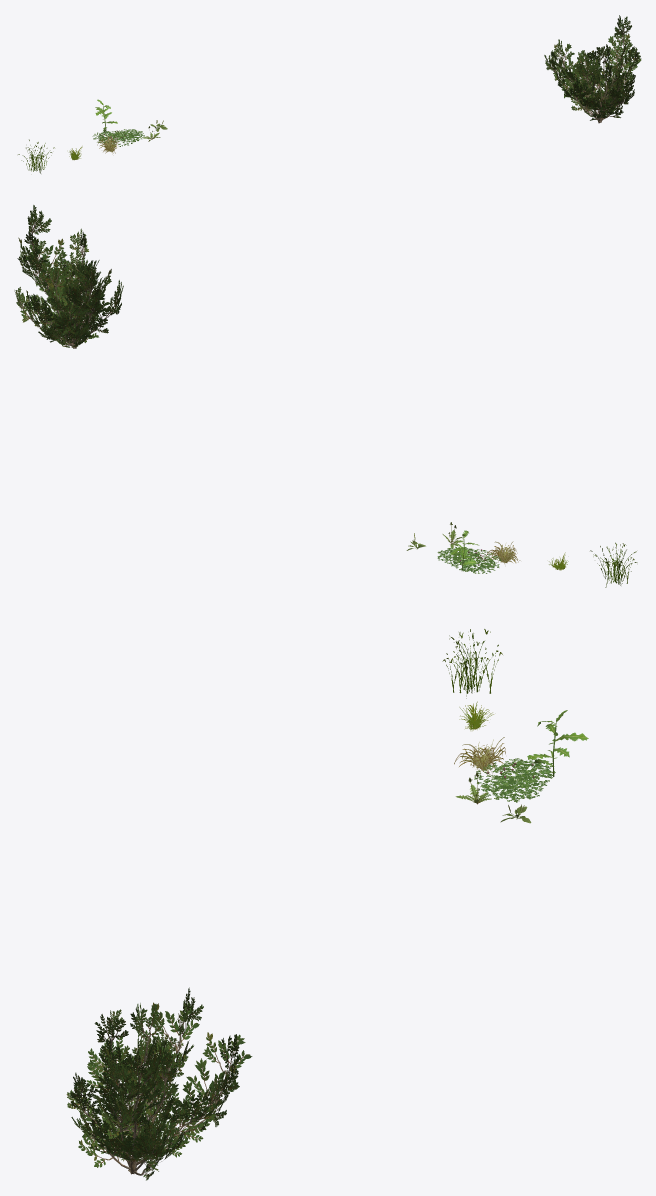
Rendered from wplants.glb.
3 renders of one model, top to bottom at view 1: azimuth 30°, elevation 25°; view 2: azimuth 150°, elevation 25°; view 3: azimuth 270°, elevation 25°, orthographic. The views are drawn at different scales.
Visible parts, largest first — view 1: Bush_big_004_LOD001_Brunch_material_0, clover_3_LOD001_Clover_material_0, Bush_big_004_LOD001_Bark_material_0, Grass tall low.003_Tall_grass_Mat_0, Grass main fresh001_Grass_Mat_0; view 2: Bush_big_004_LOD001_Brunch_material_0, clover_3_LOD001_Clover_material_0, Grass tall low.003_Tall_grass_Mat_0, Grass main fresh001_Grass_Mat_0; view 3: Bush_big_004_LOD001_Brunch_material_0, clover_3_LOD001_Clover_material_0, Grass main fresh001_Grass_Mat_0, Grass tall low.003_Tall_grass_Mat_0, Bush_big_004_LOD001_Bark_material_0.
Boxes of the visible parts, x1,y1,x2,y2 form: Bush_big_004_LOD001_Brunch_material_0: (544, 15, 641, 120); clover_3_LOD001_Clover_material_0: (92, 129, 144, 146); Bush_big_004_LOD001_Bark_material_0: (555, 35, 633, 123); Grass tall low.003_Tall_grass_Mat_0: (18, 139, 54, 173); Grass main fresh001_Grass_Mat_0: (69, 134, 118, 160); Bush_big_004_LOD001_Brunch_material_0: (14, 205, 123, 347); clover_3_LOD001_Clover_material_0: (437, 546, 501, 573); Grass tall low.003_Tall_grass_Mat_0: (590, 542, 637, 587); Grass main fresh001_Grass_Mat_0: (486, 541, 568, 570); Bush_big_004_LOD001_Brunch_material_0: (66, 987, 252, 1180); clover_3_LOD001_Clover_material_0: (474, 758, 555, 802); Grass main fresh001_Grass_Mat_0: (454, 701, 505, 777); Grass tall low.003_Tall_grass_Mat_0: (442, 629, 502, 698); Bush_big_004_LOD001_Bark_material_0: (80, 1022, 223, 1175).
Bounding box in the file's own units: 7.97 × 1.4 × 3.35.
8 materials, 8 textured.
